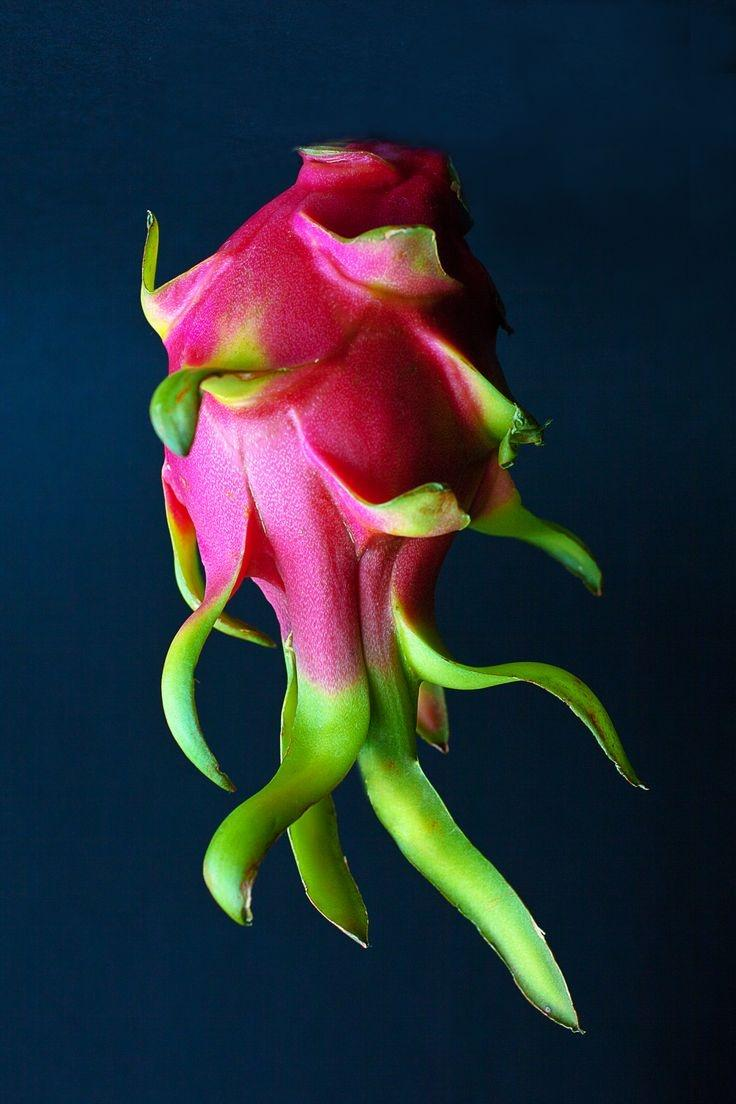dragon fruit: (137, 136, 650, 1035)
